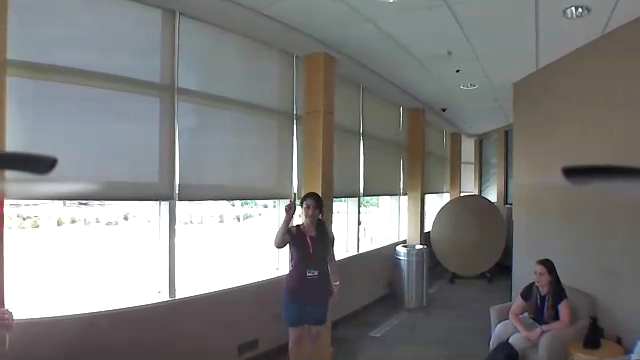up: (280, 192, 298, 222)
